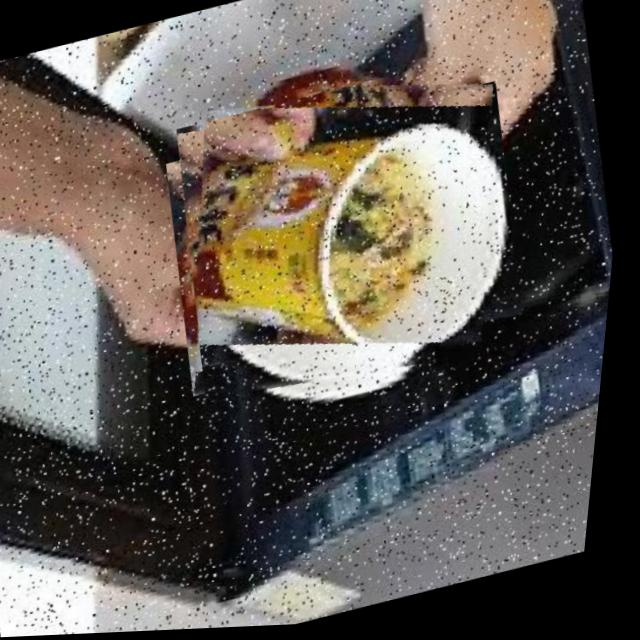Miscellaneous: (153, 54, 542, 429)
